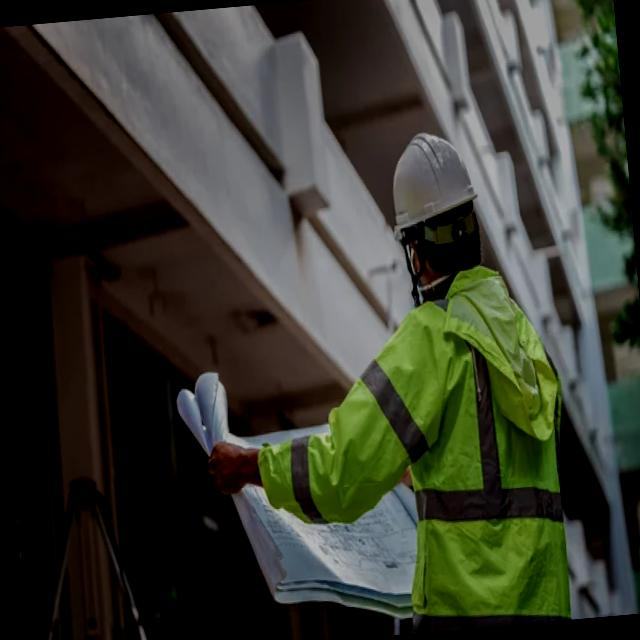helmet: (372, 100, 482, 237)
vest: (291, 239, 575, 640)
